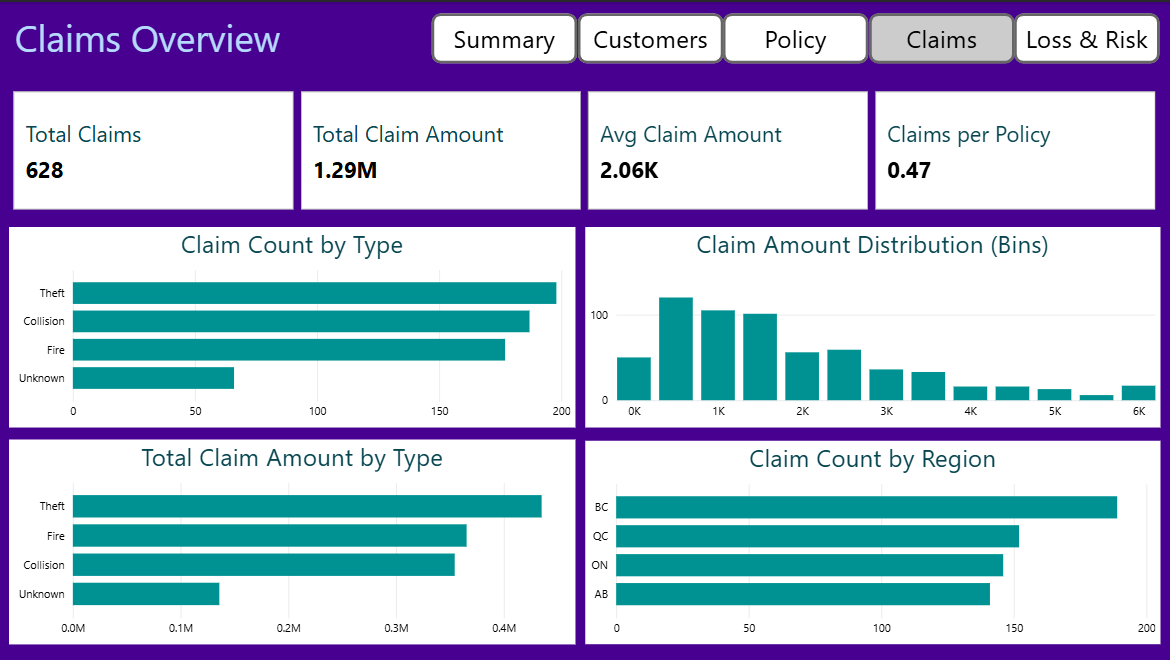

What the dashboard file says about the page in this screenshot:
{"tool":"powerbi","page":{"name":"Claims Overview","canvas":[1280,720],"ordinal":3},"visuals":[{"type":"cardVisual","fields":{"Data":["CountNonNull(claims_clean.claim_id)","Sum(claims_clean.claim_amount)","Avg(claims_clean.claim_amount)","_measures.claims_per_policy"]},"box":[10.9,92.9,1258.4,139.4],"z":0},{"type":"clusteredBarChart","title":"Claim Count by Type","fields":{"Y":["CountNonNull(claims_clean.claim_id)"],"Category":["claims_clean.claim_type"]},"box":[11,245.6,618.9,219.6],"z":1000},{"type":"clusteredBarChart","title":"Total Claim Amount by Type","fields":{"Category":["claims_clean.claim_type"],"Y":["Sum(claims_clean.claim_amount)"]},"box":[10.9,478.2,619,224.1],"z":2000},{"type":"clusteredColumnChart","title":"Claim Amount Distribution (Bins)","fields":{"Category":["claims_clean.claim_amount (bins)"],"Y":["CountNonNull(claims_clean.claim_id)"]},"box":[640.8,245.6,628.5,219.6],"z":3000},{"type":"clusteredBarChart","title":"Claim Count by Region","fields":{"Y":["CountNonNull(claims_clean.claim_id)"],"Category":["customers_clean.region"]},"box":[640.8,479.6,628.5,222.7],"z":4000},{"type":"textbox","title":"Claims Overview","box":[12.3,11,517.3,82.3],"z":5000},{"type":"actionButton","title":"Loss & Risk","box":[1110.1,12.3,159.2,54.9],"z":5001},{"type":"actionButton","title":"Loss & Risk","box":[950.9,12.3,159.2,54.9],"z":5002},{"type":"actionButton","title":"Loss & Risk","box":[791.8,12.3,159.2,54.9],"z":5003},{"type":"actionButton","title":"Loss & Risk","box":[632.6,12.3,159.2,54.9],"z":5004},{"type":"actionButton","title":"Loss & Risk","box":[473.4,12.3,159.2,54.9],"z":5005}]}

Visuals, with their boxes in screenshot pixels (x1, y1, x2, y2), scaled from the page's 1280x720 canvas onto the 1170x660 screenshot:
cardVisual - CountNonNull(claims_clean.claim_id) x Sum(claims_clean.claim_amount): [x1=10, y1=85, x2=1160, y2=213]
"Claim Count by Type" clusteredBarChart: [x1=10, y1=225, x2=576, y2=426]
"Total Claim Amount by Type" clusteredBarChart: [x1=10, y1=438, x2=576, y2=644]
"Claim Amount Distribution (Bins)" clusteredColumnChart: [x1=586, y1=225, x2=1160, y2=426]
"Claim Count by Region" clusteredBarChart: [x1=586, y1=440, x2=1160, y2=644]
"Claims Overview" textbox: [x1=11, y1=10, x2=484, y2=86]
"Loss & Risk" actionButton: [x1=1015, y1=11, x2=1160, y2=62]
"Loss & Risk" actionButton: [x1=869, y1=11, x2=1015, y2=62]
"Loss & Risk" actionButton: [x1=724, y1=11, x2=869, y2=62]
"Loss & Risk" actionButton: [x1=578, y1=11, x2=724, y2=62]
"Loss & Risk" actionButton: [x1=433, y1=11, x2=578, y2=62]
